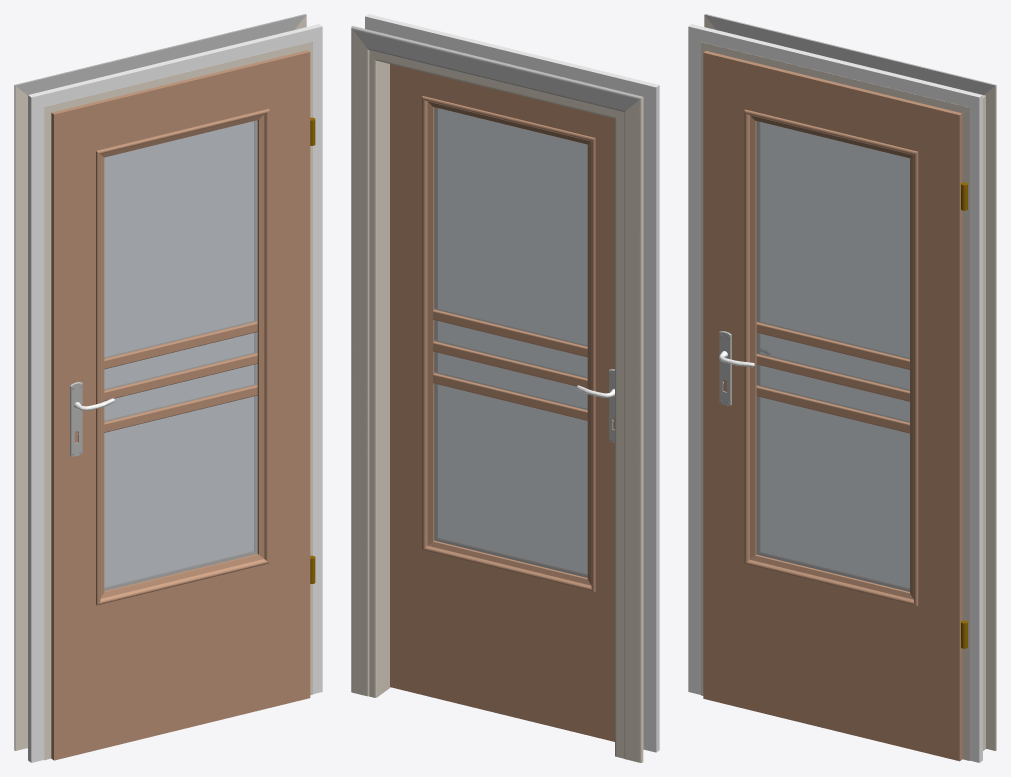
Rendered from door_glass.obj.
3 renders of one model, left to right at view 1: azimuth 30°, elevation 25°; view 2: azimuth 150°, elevation 25°; view 3: azimuth 330°, elevation 25°, orthographic.
Parts seen in each view (by area): view 1: sweethome3d_opening_on_hinge_1_Door_0, sweethome3d_opening_on_hinge_1_Glass_0, InnerCasing, sweethome3d_opening_on_hinge_1_Rama_geam_0, Casing, Toc, sweethome3d_opening_on_hinge_1_bare_orizontale_0, sweethome3d_opening_on_hinge_1_Clanta_R; view 2: sweethome3d_opening_on_hinge_1_Glass_0, sweethome3d_opening_on_hinge_1_Door_0, Casing, Toc, InnerCasing, sweethome3d_opening_on_hinge_1_Rama_geam_0, sweethome3d_opening_on_hinge_1_bare_orizontale_0; view 3: sweethome3d_opening_on_hinge_1_Door_0, sweethome3d_opening_on_hinge_1_Glass_0, InnerCasing, sweethome3d_opening_on_hinge_1_Rama_geam_0, Casing, Toc, sweethome3d_opening_on_hinge_1_bare_orizontale_0, sweethome3d_opening_on_hinge_1_Clanta_R.
Part boxes in pixels (left/top/right/bottom): sweethome3d_opening_on_hinge_1_Door_0: left=51, top=50, right=310, bottom=760; sweethome3d_opening_on_hinge_1_Glass_0: left=104, top=120, right=257, bottom=590; InnerCasing: left=28, top=24, right=322, bottom=762; sweethome3d_opening_on_hinge_1_Rama_geam_0: left=96, top=108, right=269, bottom=605; Casing: left=14, top=14, right=306, bottom=750; Toc: left=44, top=41, right=312, bottom=760; sweethome3d_opening_on_hinge_1_bare_orizontale_0: left=104, top=321, right=257, bottom=432; sweethome3d_opening_on_hinge_1_Clanta_R: left=70, top=382, right=82, bottom=456; sweethome3d_opening_on_hinge_1_Glass_0: left=434, top=107, right=587, bottom=577; sweethome3d_opening_on_hinge_1_Door_0: left=390, top=64, right=614, bottom=741; Casing: left=351, top=26, right=643, bottom=762; Toc: left=369, top=50, right=643, bottom=758; InnerCasing: left=365, top=14, right=659, bottom=752; sweethome3d_opening_on_hinge_1_Rama_geam_0: left=422, top=96, right=595, bottom=591; sweethome3d_opening_on_hinge_1_bare_orizontale_0: left=433, top=309, right=587, bottom=420; sweethome3d_opening_on_hinge_1_Door_0: left=703, top=51, right=962, bottom=761; sweethome3d_opening_on_hinge_1_Glass_0: left=756, top=121, right=909, bottom=591; InnerCasing: left=688, top=24, right=982, bottom=762; sweethome3d_opening_on_hinge_1_Rama_geam_0: left=744, top=109, right=918, bottom=605; Casing: left=704, top=14, right=996, bottom=750; Toc: left=701, top=42, right=985, bottom=760; sweethome3d_opening_on_hinge_1_bare_orizontale_0: left=756, top=322, right=909, bottom=433; sweethome3d_opening_on_hinge_1_Clanta_R: left=719, top=331, right=731, bottom=405.
Bounding box in the file's own units: 96 × 210 × 17.03.
